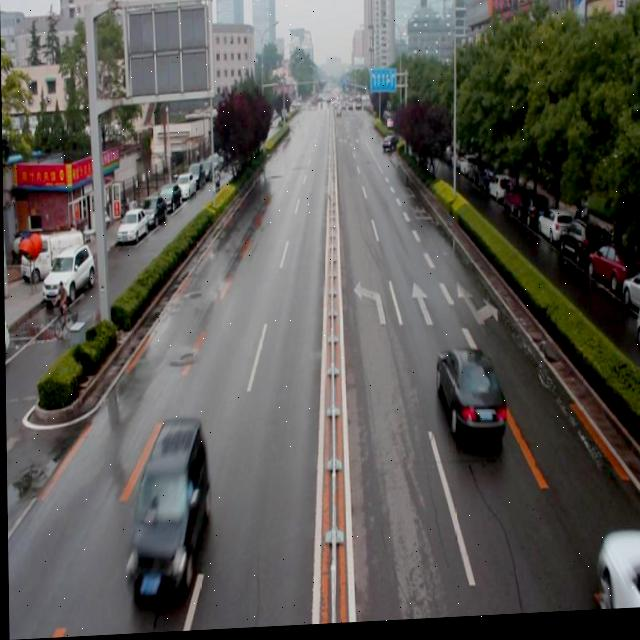car: (432, 347, 503, 454), (594, 537, 640, 616), (381, 135, 397, 157)
truck: (123, 420, 209, 601)
